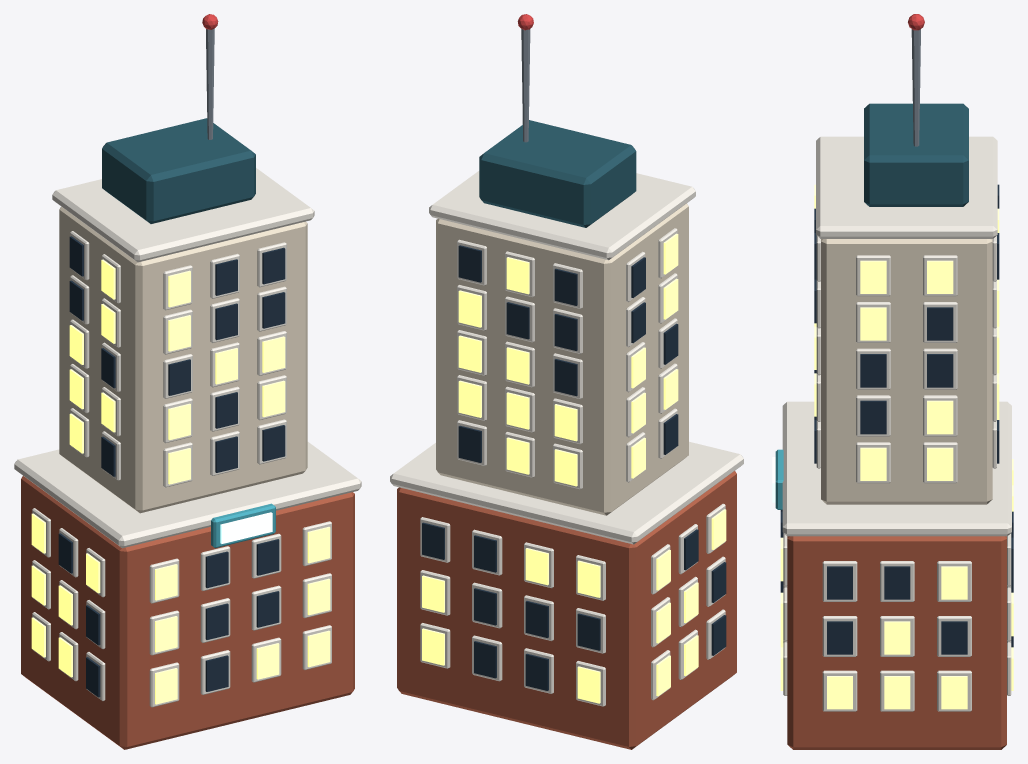
The picture shows the model from 3 angles, left to right: view 1: azimuth 30°, elevation 25°; view 2: azimuth 150°, elevation 25°; view 3: azimuth 270°, elevation 25°; orthographic projection. The views are drawn at different scales.
Visible parts, largest first — view 1: Cube; view 2: Cube; view 3: Cube.
Part boxes in pixels (bbox=[...]): Cube: bbox=[14, 14, 361, 749]; Cube: bbox=[390, 14, 743, 749]; Cube: bbox=[772, 14, 1013, 749].
Bounding box in the file's own units: 0.628 × 1.6 × 0.506.
